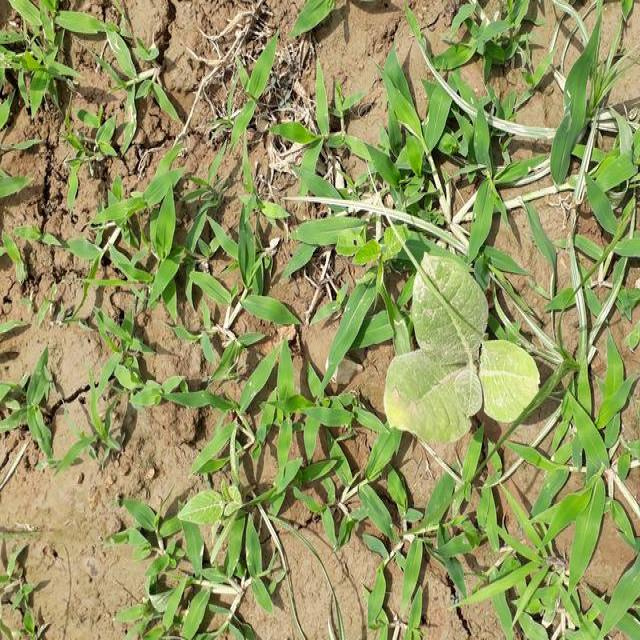crop: (385, 232, 545, 453)
